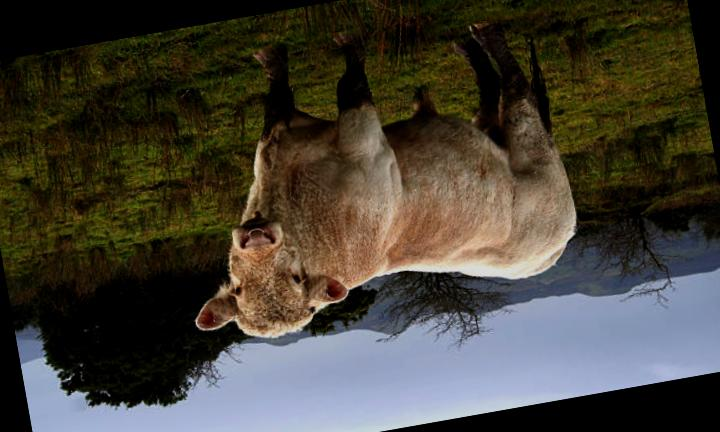Charolais: (196, 25, 576, 336)
